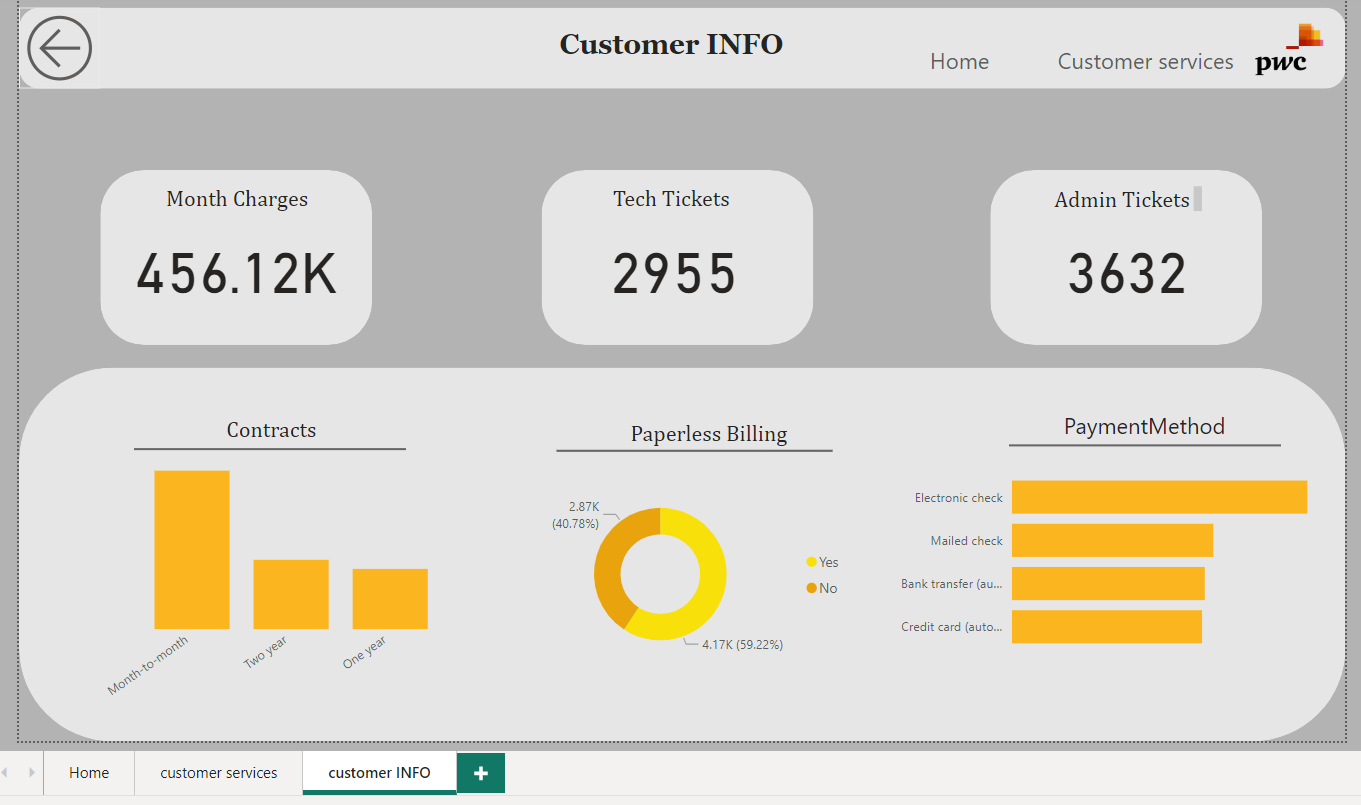

The page's visual inventory and layout, read from the dashboard file:
{"tool":"powerbi","page":{"name":"customer INFO","canvas":[1280,720],"ordinal":2},"visuals":[{"type":"shape","box":[0,12.3,1280.3,78.2],"z":0},{"type":"shape","box":[937.2,168.8,262.1,168.8],"z":1000},{"type":"shape","box":[503.6,168.8,262.1,168.8],"z":2000},{"type":"shape","box":[78.2,168.8,262.1,168.8],"z":3000},{"type":"shape","box":[0,359.5,1280.3,360.9],"z":4000},{"type":"clusteredColumnChart","fields":{"Category":["01 Churn-Dataset.Contract"],"Y":["CountNonNull(01 Churn-Dataset.Contract)"]},"box":[52.1,440.5,389.7,270.3],"z":5000},{"type":"clusteredBarChart","fields":{"Category":["01 Churn-Dataset.PaymentMethod"],"Y":["CountNonNull(01 Churn-Dataset.PaymentMethod)"]},"box":[815.1,439.1,448.7,219.6],"z":6000},{"type":"card","fields":{"Values":["Sum(01 Churn-Dataset.MonthlyCharges)"]},"box":[91.9,223.7,236,76.8],"z":7000},{"type":"donutChart","fields":{"Category":["01 Churn-Dataset.PaperlessBilling"],"Y":["CountNonNull(01 Churn-Dataset.PaperlessBilling)"]},"box":[473.4,469.3,330.7,179.8],"z":8000},{"type":"textbox","box":[179.8,402.1,127.6,41.2],"z":9000},{"type":"card","fields":{"Values":["Sum(01 Churn-Dataset.numTechTickets)"]},"box":[533.8,223.7,196.2,76.8],"z":10000},{"type":"card","fields":{"Values":["Sum(01 Churn-Dataset.numAdminTickets)"]},"box":[961.9,223.7,214.1,76.8],"z":11000},{"type":"textbox","box":[584.6,404.8,181.1,38.4],"z":12000},{"type":"textbox","box":[996.2,395.2,179.8,38.4],"z":13000},{"type":"shape","box":[955.1,425.4,262.1,17.8],"z":14000},{"type":"shape","box":[518.7,433.6,266.2,11],"z":15000},{"type":"shape","box":[111.1,429.5,262.1,17.8],"z":16000},{"type":"textbox","box":[124.9,178.4,170.2,35.7],"z":17000},{"type":"textbox","box":[568.1,178.4,133.1,45.3],"z":18000},{"type":"textbox","box":[990.7,179.8,156.4,34.3],"z":19000},{"type":"actionButton","box":[0,12.3,78.2,78.2],"z":20000},{"type":"textbox","box":[500.9,23.3,264.8,59],"z":21000},{"type":"image","box":[1188.3,23.3,75.5,59],"z":22000},{"type":"actionButton","box":[992.1,42.5,189.4,39.8],"z":23000},{"type":"actionButton","box":[837.1,42.5,141.3,39.8],"z":24000}]}

Visuals, with their boxes on the page's 1280x720 design canvas (x1, y1, x2, y2). These are canvas units, not pixel positions in the 1361x805 screenshot, which may show the page scaled, cropped or inside an application window:
shape: (x1=0, y1=12, x2=1280, y2=90)
shape: (x1=937, y1=169, x2=1199, y2=338)
shape: (x1=504, y1=169, x2=766, y2=338)
shape: (x1=78, y1=169, x2=340, y2=338)
shape: (x1=0, y1=360, x2=1280, y2=720)
clusteredColumnChart - 01 Churn-Dataset.Contract x CountNonNull(01 Churn-Dataset.Contract): (x1=52, y1=440, x2=442, y2=711)
clusteredBarChart - 01 Churn-Dataset.PaymentMethod x CountNonNull(01 Churn-Dataset.PaymentMethod): (x1=815, y1=439, x2=1264, y2=659)
card - Sum(01 Churn-Dataset.MonthlyCharges): (x1=92, y1=224, x2=328, y2=300)
donutChart - 01 Churn-Dataset.PaperlessBilling x CountNonNull(01 Churn-Dataset.PaperlessBilling): (x1=473, y1=469, x2=804, y2=649)
textbox: (x1=180, y1=402, x2=307, y2=443)
card - Sum(01 Churn-Dataset.numTechTickets): (x1=534, y1=224, x2=730, y2=300)
card - Sum(01 Churn-Dataset.numAdminTickets): (x1=962, y1=224, x2=1176, y2=300)
textbox: (x1=585, y1=405, x2=766, y2=443)
textbox: (x1=996, y1=395, x2=1176, y2=434)
shape: (x1=955, y1=425, x2=1217, y2=443)
shape: (x1=519, y1=434, x2=785, y2=445)
shape: (x1=111, y1=430, x2=373, y2=447)
textbox: (x1=125, y1=178, x2=295, y2=214)
textbox: (x1=568, y1=178, x2=701, y2=224)
textbox: (x1=991, y1=180, x2=1147, y2=214)
actionButton: (x1=0, y1=12, x2=78, y2=90)
textbox: (x1=501, y1=23, x2=766, y2=82)
image: (x1=1188, y1=23, x2=1264, y2=82)
actionButton: (x1=992, y1=42, x2=1182, y2=82)
actionButton: (x1=837, y1=42, x2=978, y2=82)
